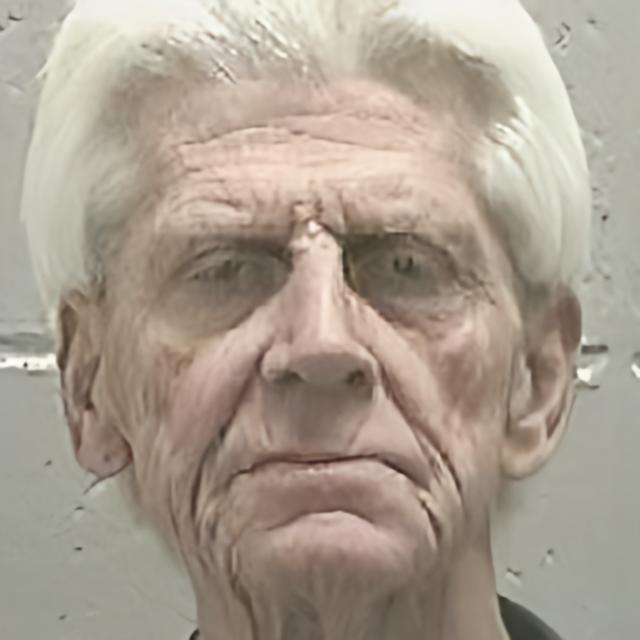anger: (103, 53, 513, 591)
